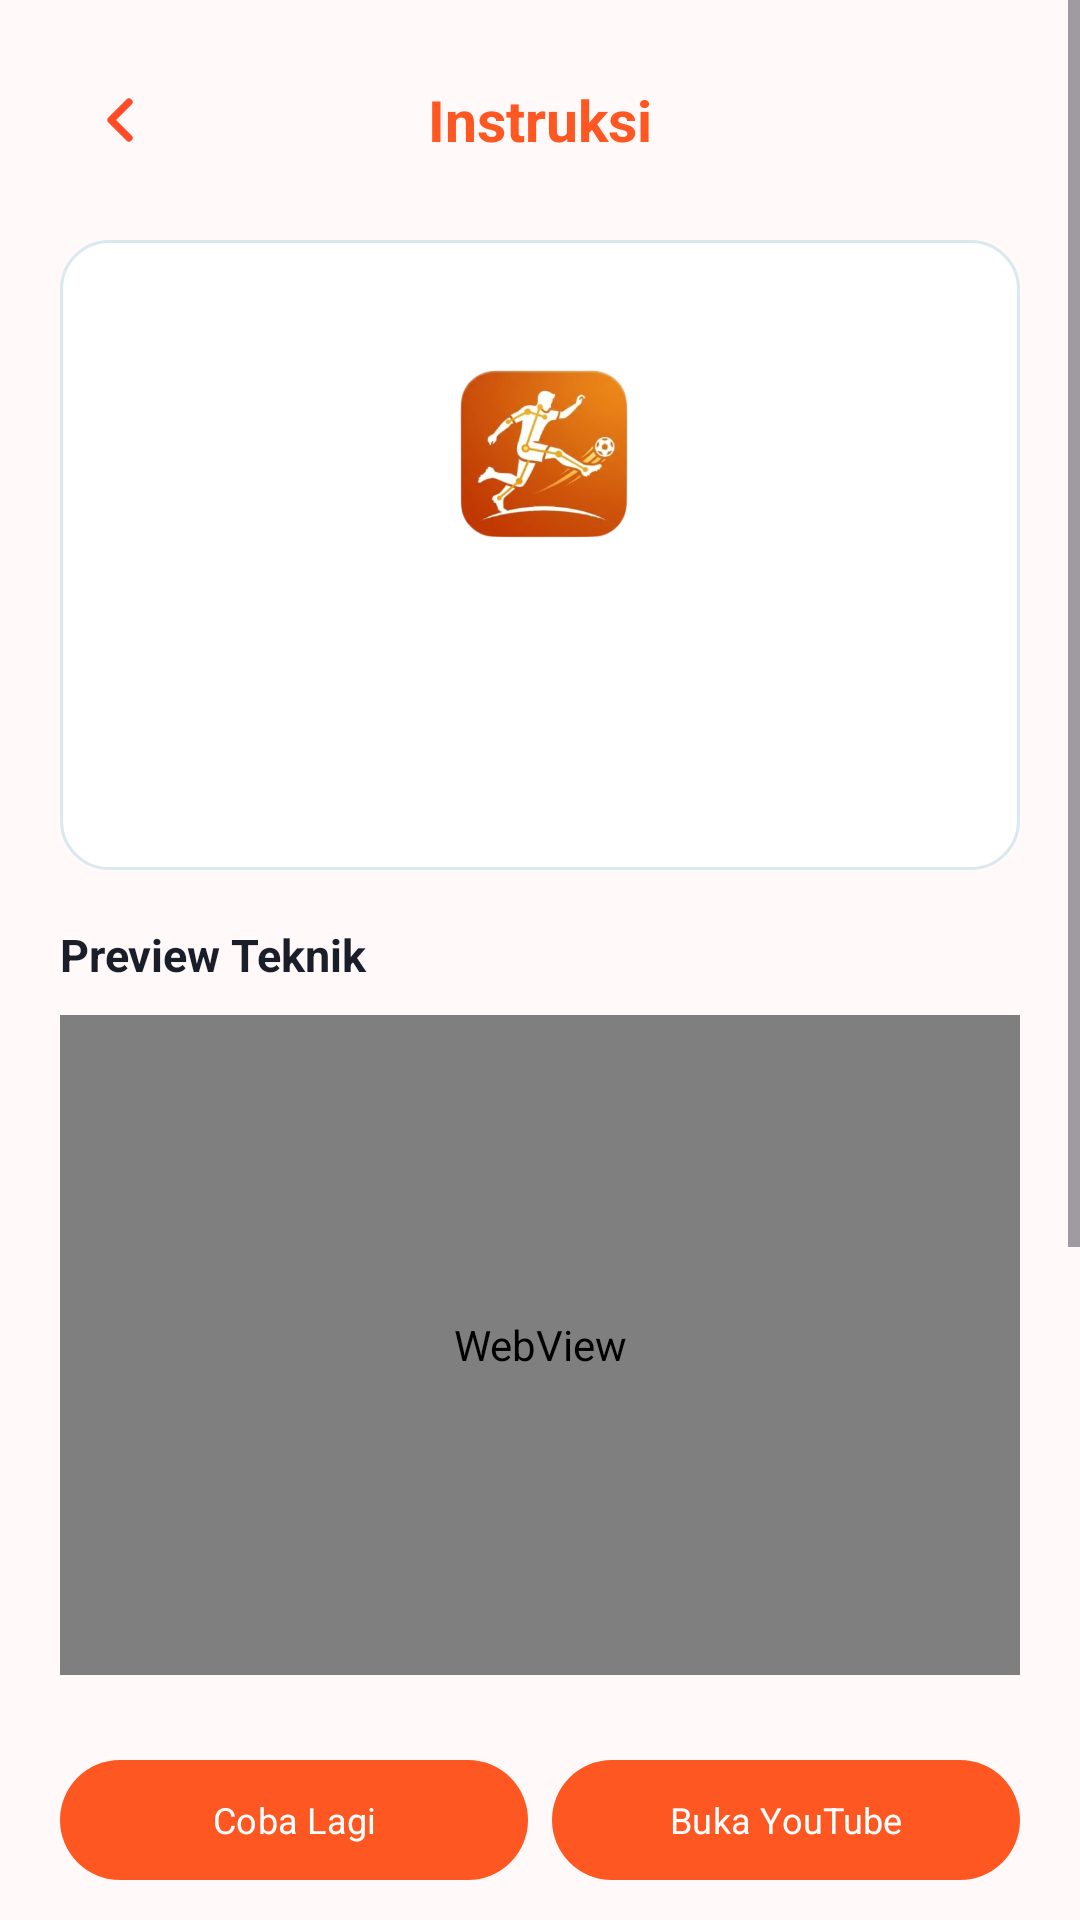

Screen size 1080px×1920px. Icon name, then its center in pixels as (x=x, y=y):
Gerakan: (x=544, y=453)
Kembali: (x=120, y=120)
